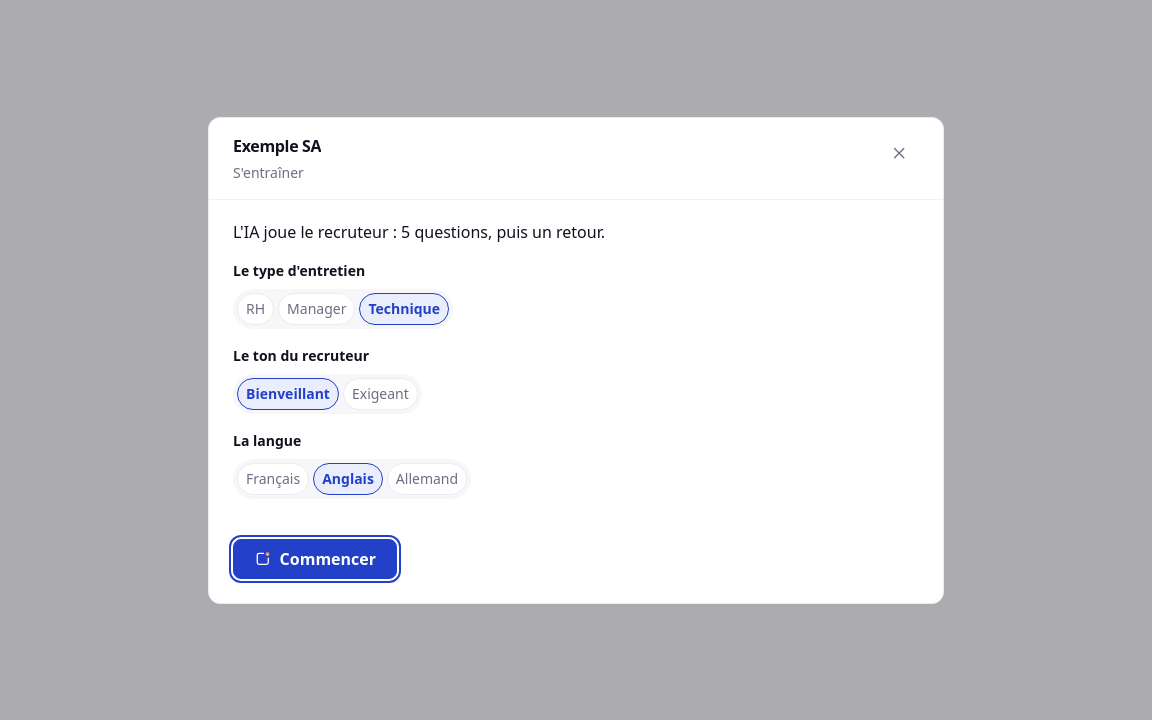
Test: InterviewPractice › reprend les choix par défaut, démarre, envoie une réponse avec Entrée
Click the radio button with test id "practice-tone-exigeant": x=380, y=394 [343,378,418,410]
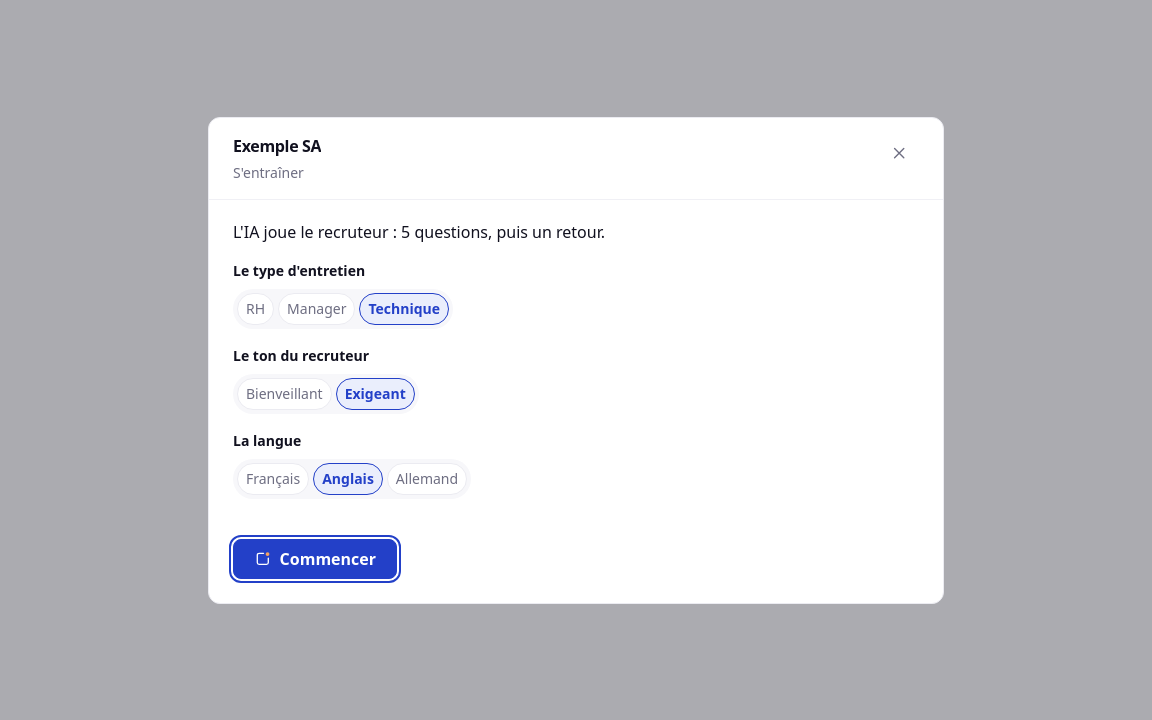
Click the button with test id "practice-start": x=315, y=558 [233,538,397,578]
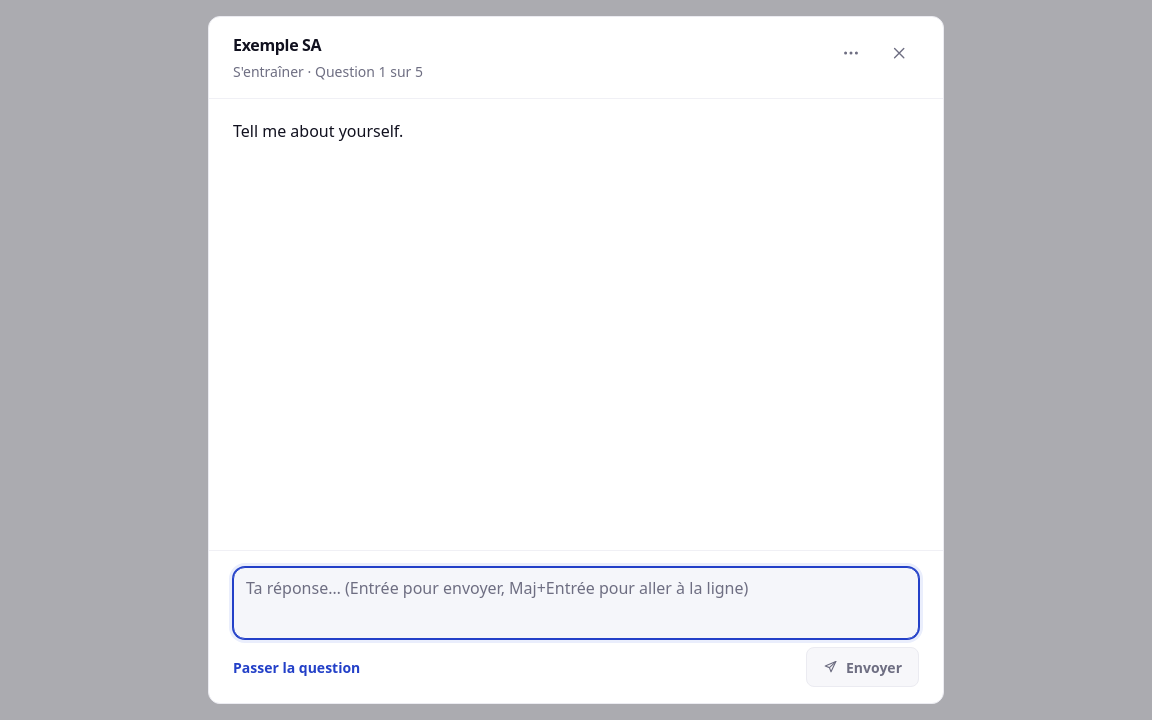
Expected: the text with test id "practice-progress" reads "Question 1 sur 5", [315,62,423,81]
Replace the text in the text box with test id "practice-input" with "I am an engineer.": x=576, y=603 [233,567,919,639]
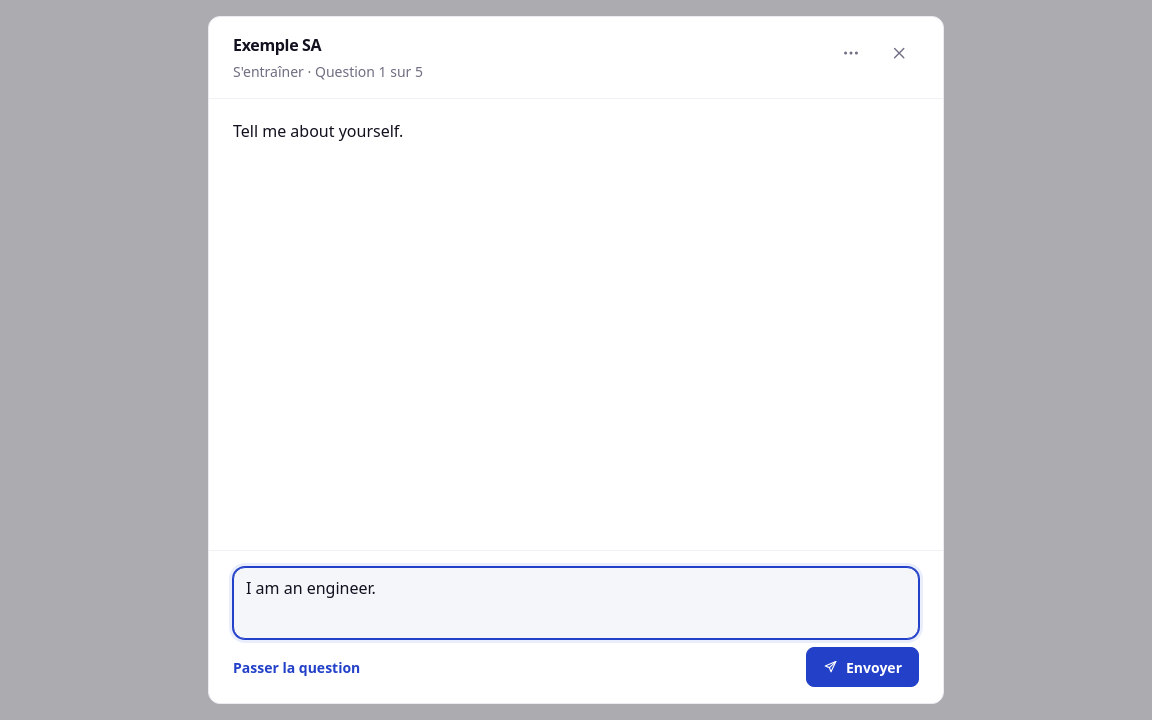
Press Enter in the text box with test id "practice-input", box [233,567,919,639]
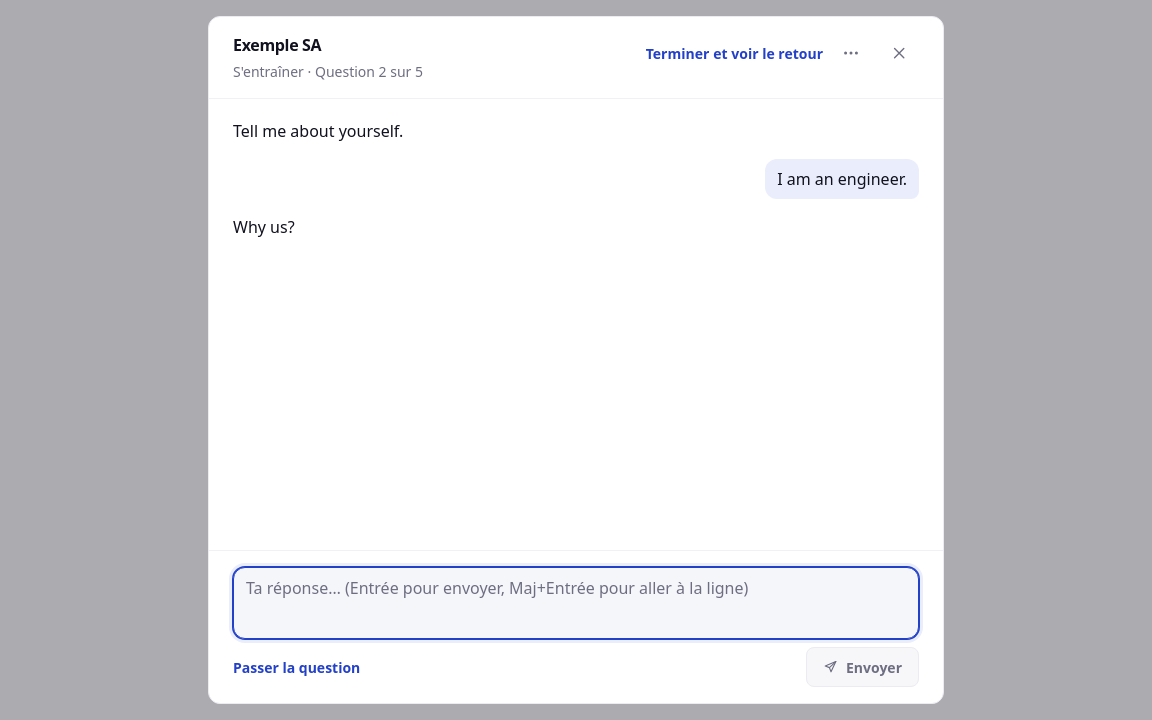
Expected: the button with test id "practice-finish" is shown, [646,42,823,64]
